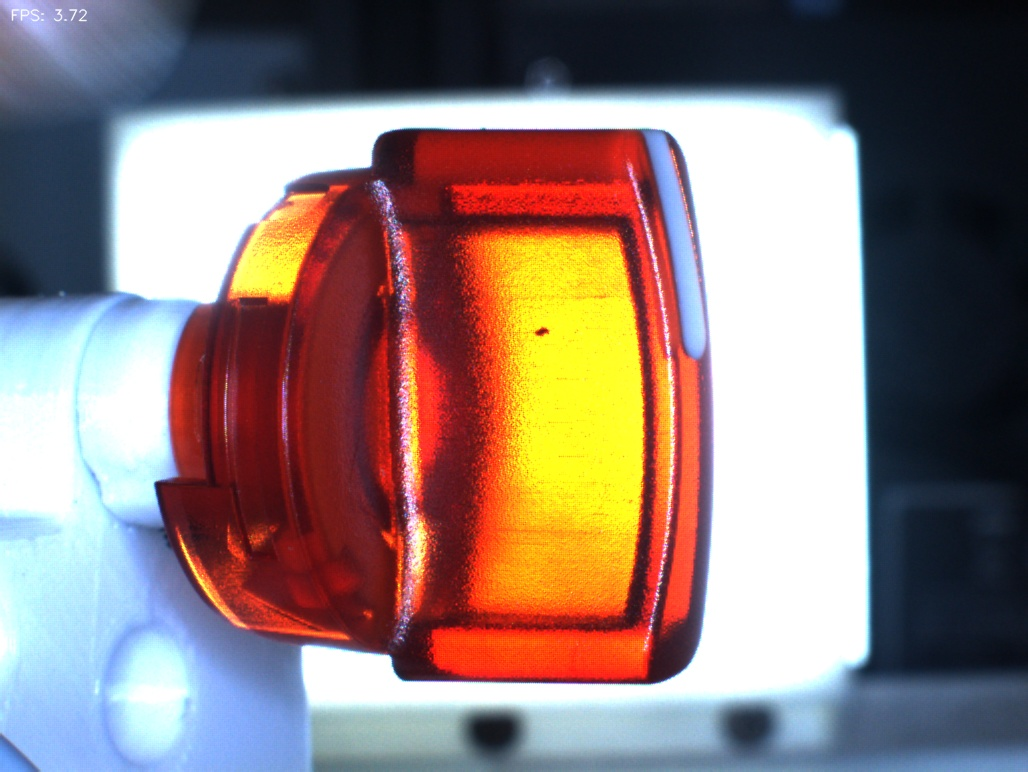PointNoir: (502, 293, 587, 393)
